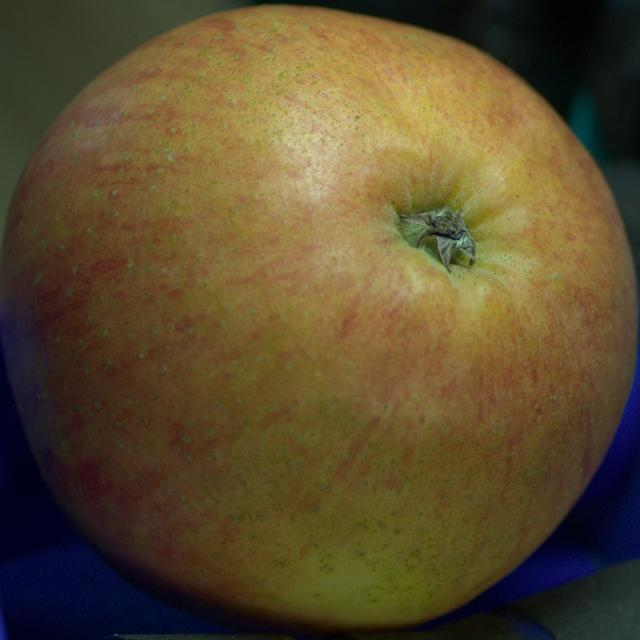apple: (0, 6, 638, 631)
